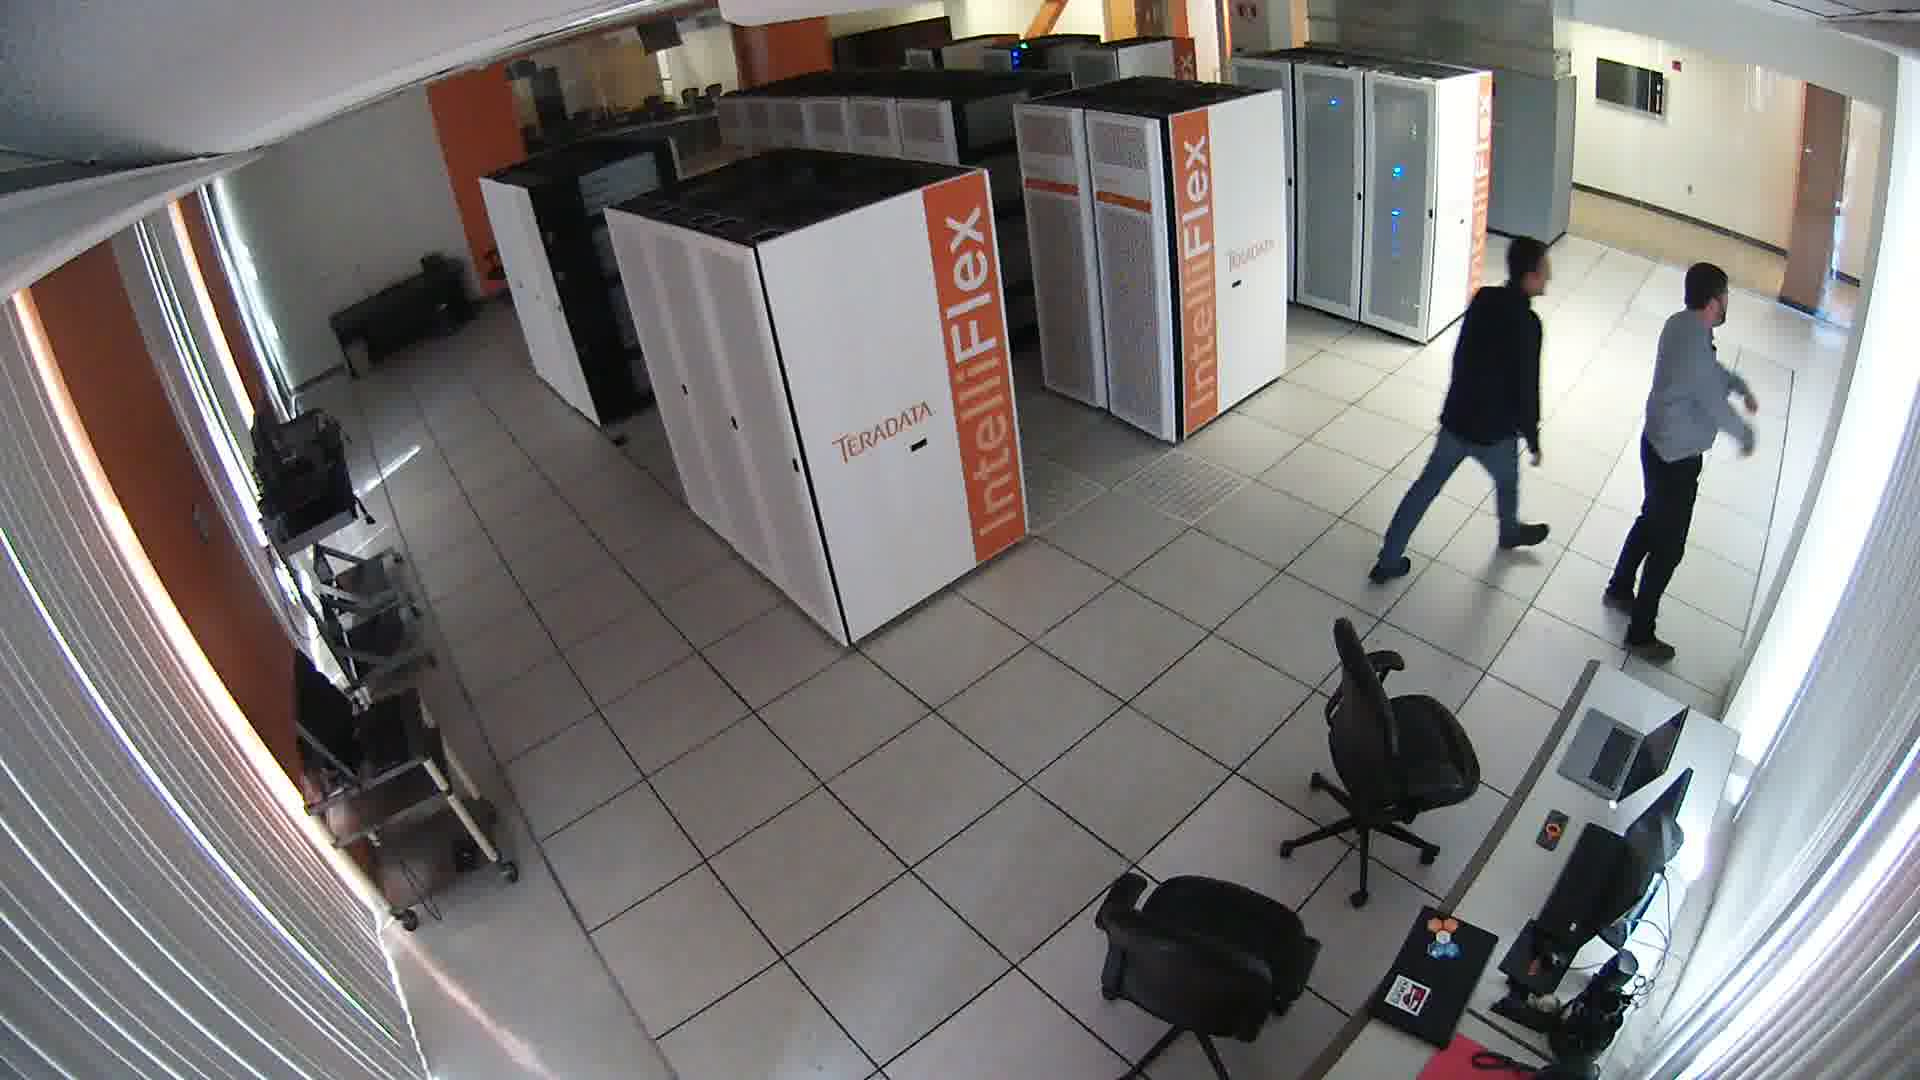person: (1356, 227, 1596, 624), (1606, 249, 1800, 703)
